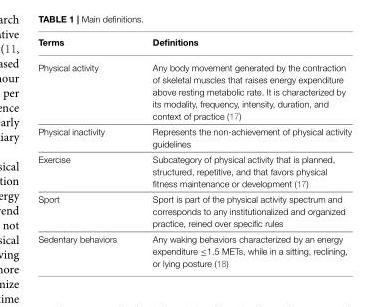table: (37, 37, 351, 267)
table column: (133, 37, 351, 267), (37, 37, 133, 267)
table column header: (37, 37, 351, 54)
table row: (37, 54, 351, 123), (37, 151, 351, 191), (37, 191, 351, 231), (37, 231, 351, 267), (37, 123, 351, 151), (37, 37, 351, 54)
